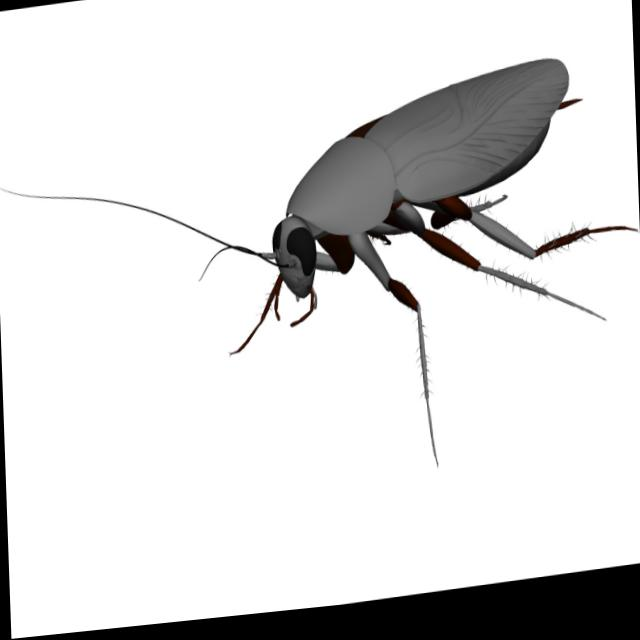Cockroach: (0, 47, 640, 534)
